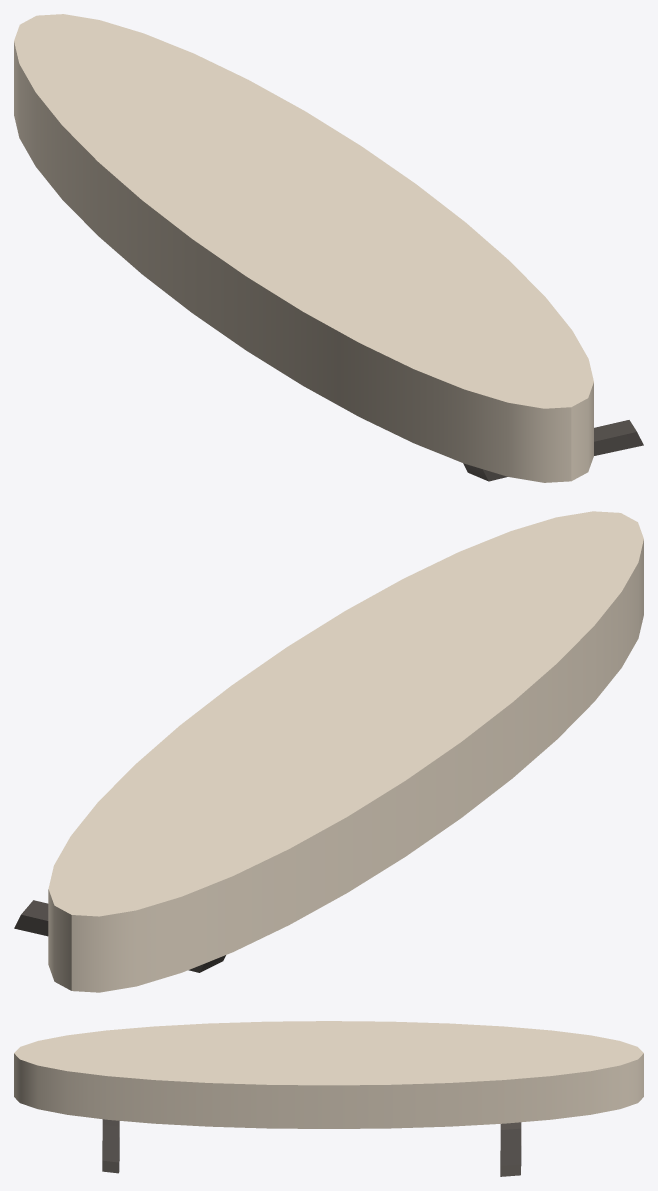
The model's file is shelf.fbx.
3 views of the same model, one above another, from view 1: azimuth 30°, elevation 25°; view 2: azimuth 150°, elevation 25°; view 3: azimuth 270°, elevation 25° (orthographic). The views are drawn at different scales.
Visible parts, largest first — view 1: Cylinder.001; view 2: Cylinder.001; view 3: Cylinder.001.
Part boxes in pixels (box(x1,y1,x2,y2)): Cylinder.001: box(14, 14, 643, 482); Cylinder.001: box(14, 511, 643, 992); Cylinder.001: box(14, 1021, 643, 1176).
Bounding box in the file's own units: 77.8 × 34.47 × 259.
